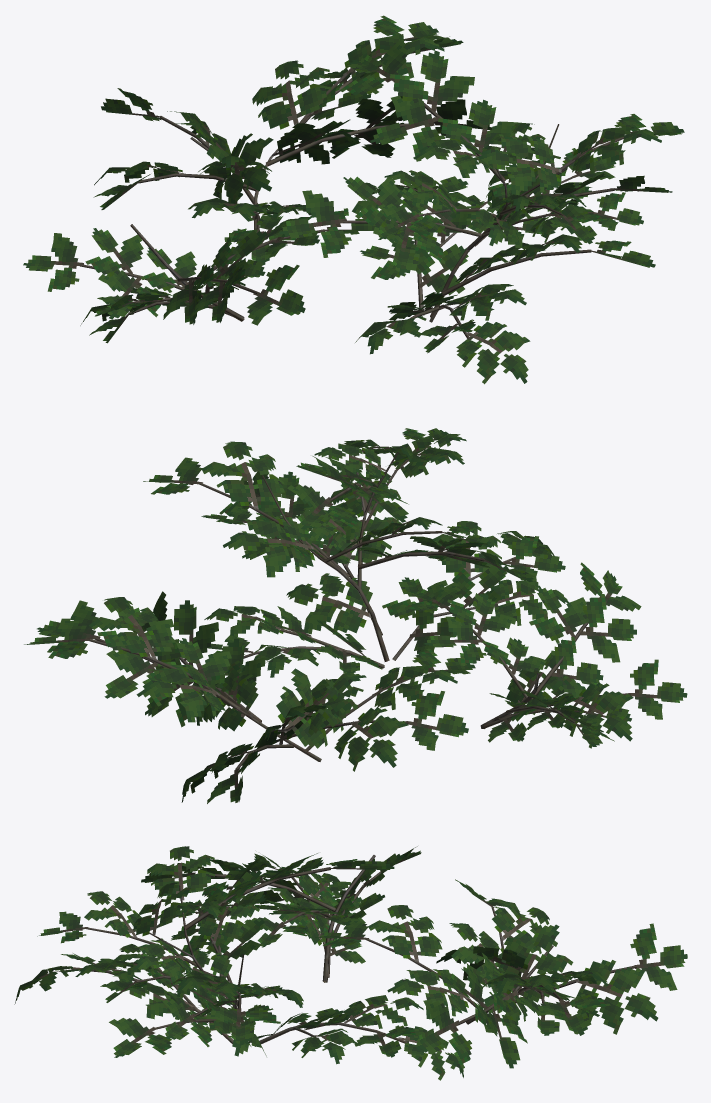
Rendered from Bush1-2.fbx.
3 views of the same model, one above another, from view 1: azimuth 30°, elevation 25°; view 2: azimuth 150°, elevation 25°; view 3: azimuth 270°, elevation 25° (orthographic). The views are drawn at different scales.
Parts seen in each view (by area): view 1: Bush1-2_LOD0; view 2: Bush1-2_LOD0; view 3: Bush1-2_LOD0.
Boxes of the visible parts, left/top/right/bottom form: Bush1-2_LOD0: left=23, top=15, right=684, bottom=384; Bush1-2_LOD0: left=24, top=428, right=687, bottom=803; Bush1-2_LOD0: left=14, top=846, right=687, bottom=1080.
Size of what is drawn, in the model's own units: 1.38 by 1.5 by 0.5149.
